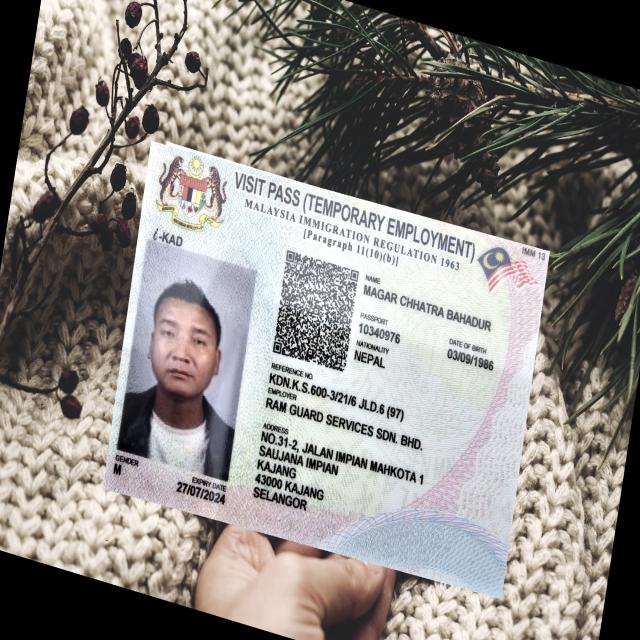ikad-temp: (103, 138, 550, 600)
